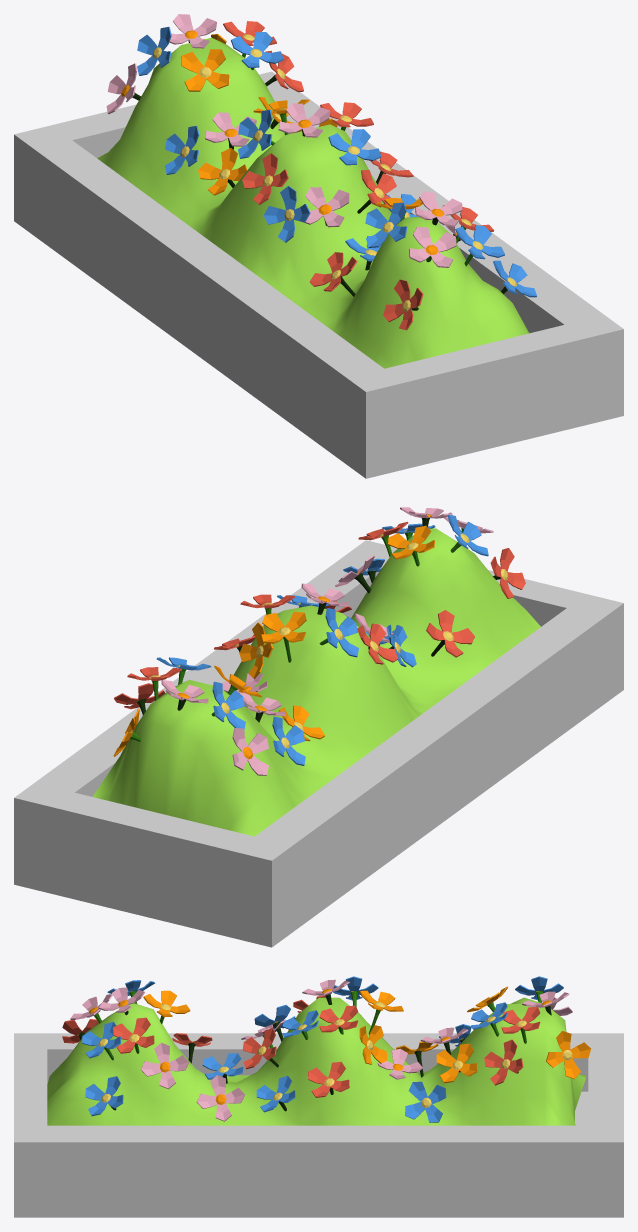
File: garden.fbx
3 renders of one model, top to bottom at view 1: azimuth 30°, elevation 25°; view 2: azimuth 150°, elevation 25°; view 3: azimuth 270°, elevation 25°, orthographic. The views are drawn at different scales.
Parts seen in each view (by area): view 1: Cube.047, Cube.060; view 2: Cube.047, Cube.060; view 3: Cube.047, Cube.060.
Part boxes in pixels (x1=…): Cube.047: x1=14, y1=37, x2=623, y2=478; Cube.060: x1=106, y1=14, x2=536, y2=330; Cube.047: x1=14, y1=528, x2=623, y2=947; Cube.060: x1=113, y1=507, x2=525, y2=775; Cube.047: x1=14, y1=997, x2=623, y2=1217; Cube.060: x1=62, y1=976, x2=590, y2=1122.
Bounding box in the file's own units: 7304 × 5543 × 17265.
